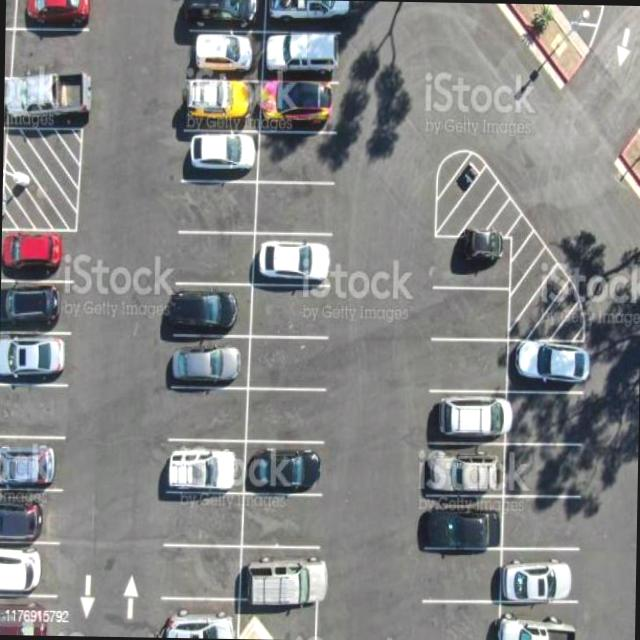car: (425, 442, 502, 502), (168, 276, 252, 331), (5, 70, 89, 124), (500, 550, 584, 602), (236, 549, 317, 602), (430, 393, 507, 445), (0, 332, 72, 387), (265, 30, 344, 80), (0, 277, 73, 331), (252, 235, 334, 282), (169, 338, 254, 383), (424, 499, 501, 548), (507, 342, 589, 388), (245, 442, 325, 488), (165, 439, 242, 486), (184, 80, 264, 124), (184, 132, 258, 178), (264, 81, 338, 127), (0, 494, 65, 546), (501, 600, 584, 640), (185, 32, 262, 75), (0, 441, 66, 491), (436, 238, 506, 285), (0, 233, 76, 276), (0, 546, 59, 593), (158, 604, 237, 638), (238, 607, 317, 638), (264, 0, 346, 29), (185, 0, 264, 30), (11, 0, 88, 27), (0, 600, 59, 634)
free: (499, 496, 586, 548), (502, 444, 584, 499), (241, 496, 322, 549), (246, 387, 326, 439), (248, 284, 330, 334), (246, 336, 328, 385), (506, 392, 583, 444), (420, 549, 501, 598), (0, 386, 68, 442), (172, 233, 252, 280), (432, 342, 508, 391), (432, 292, 510, 339), (256, 185, 334, 232), (180, 180, 256, 228), (156, 550, 237, 594), (165, 492, 239, 540), (166, 388, 246, 432), (258, 133, 336, 176), (418, 603, 503, 640), (13, 26, 87, 68)
